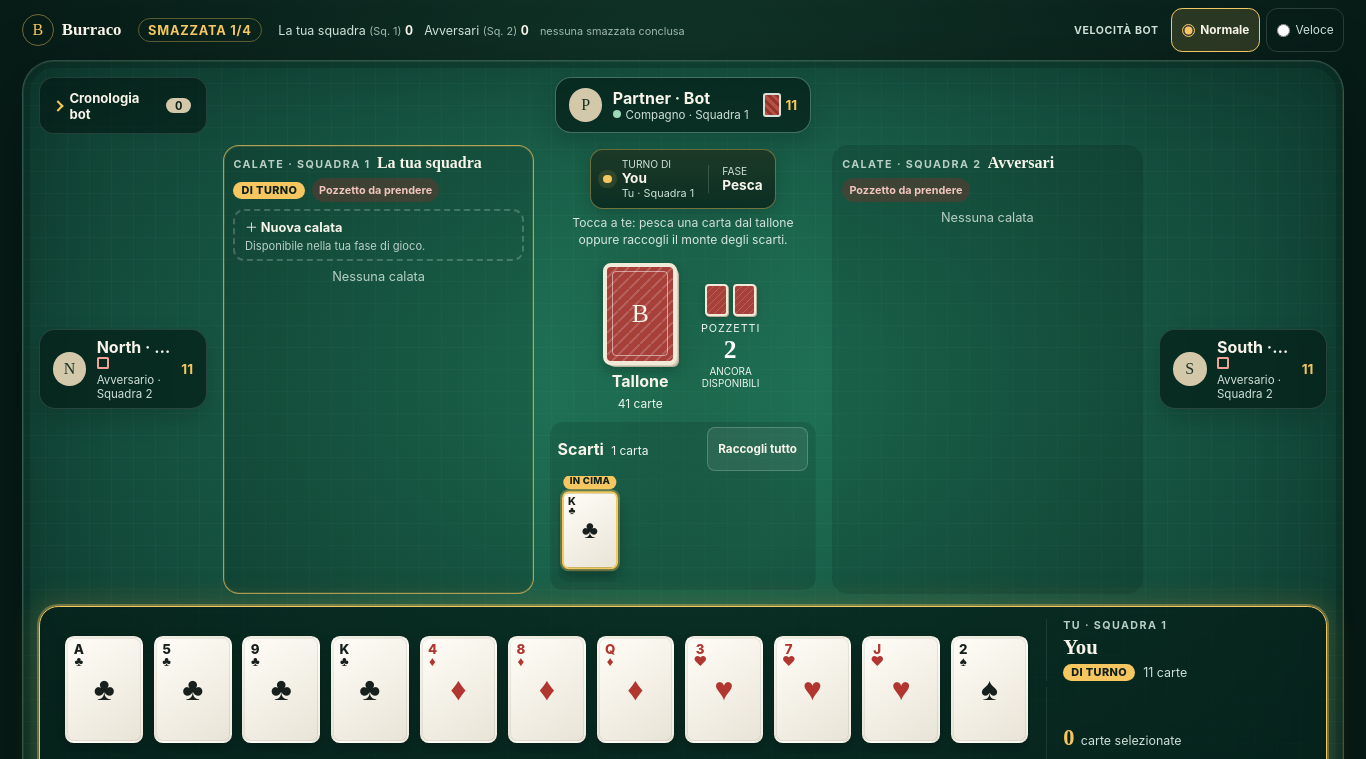
Test case: GameTable M24 visual feedback › cues the stock and only the newly drawn card after a stock draw, with the state already committed
Click the button with aria-label "Pesca dal tallone".
click(640, 337)  # box 595,258 -> 685,416
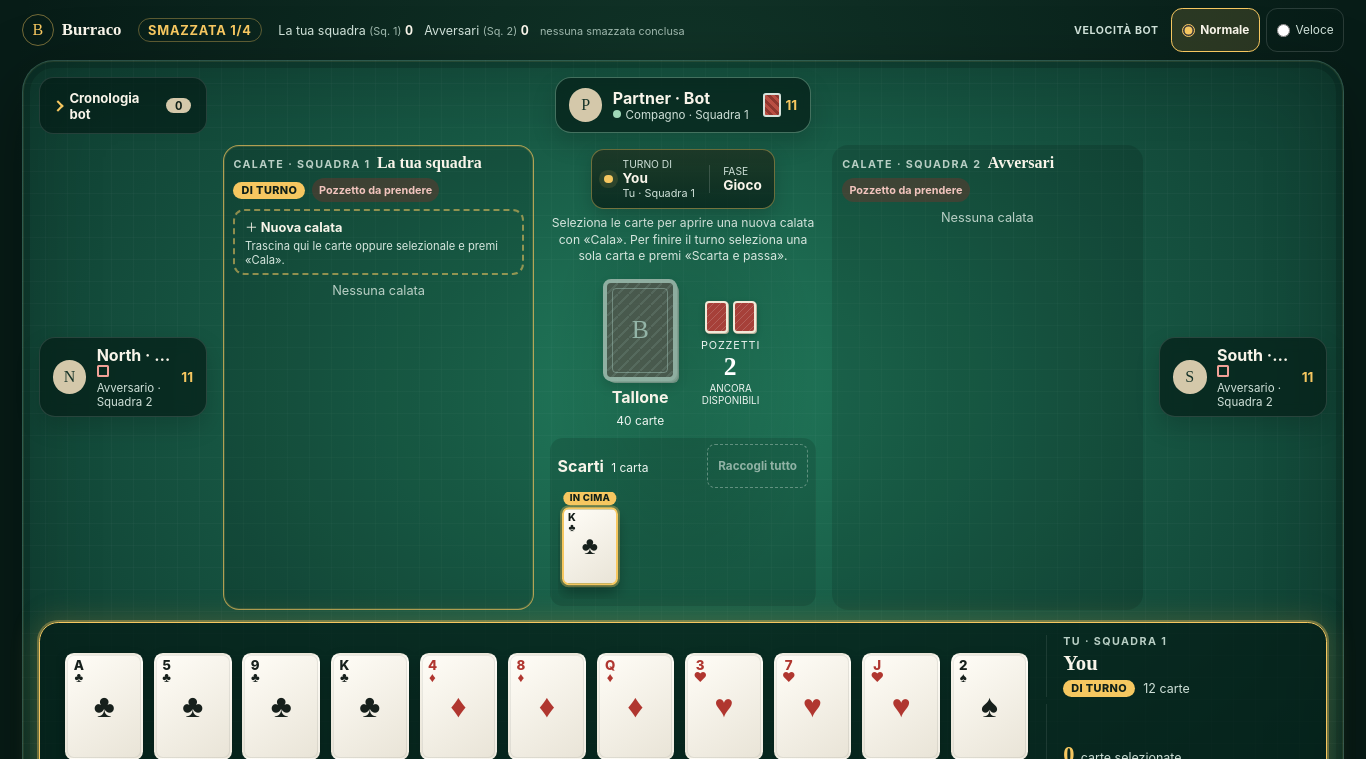
Now the text "12 carte" is shown, box 1143,681 -> 1190,696
